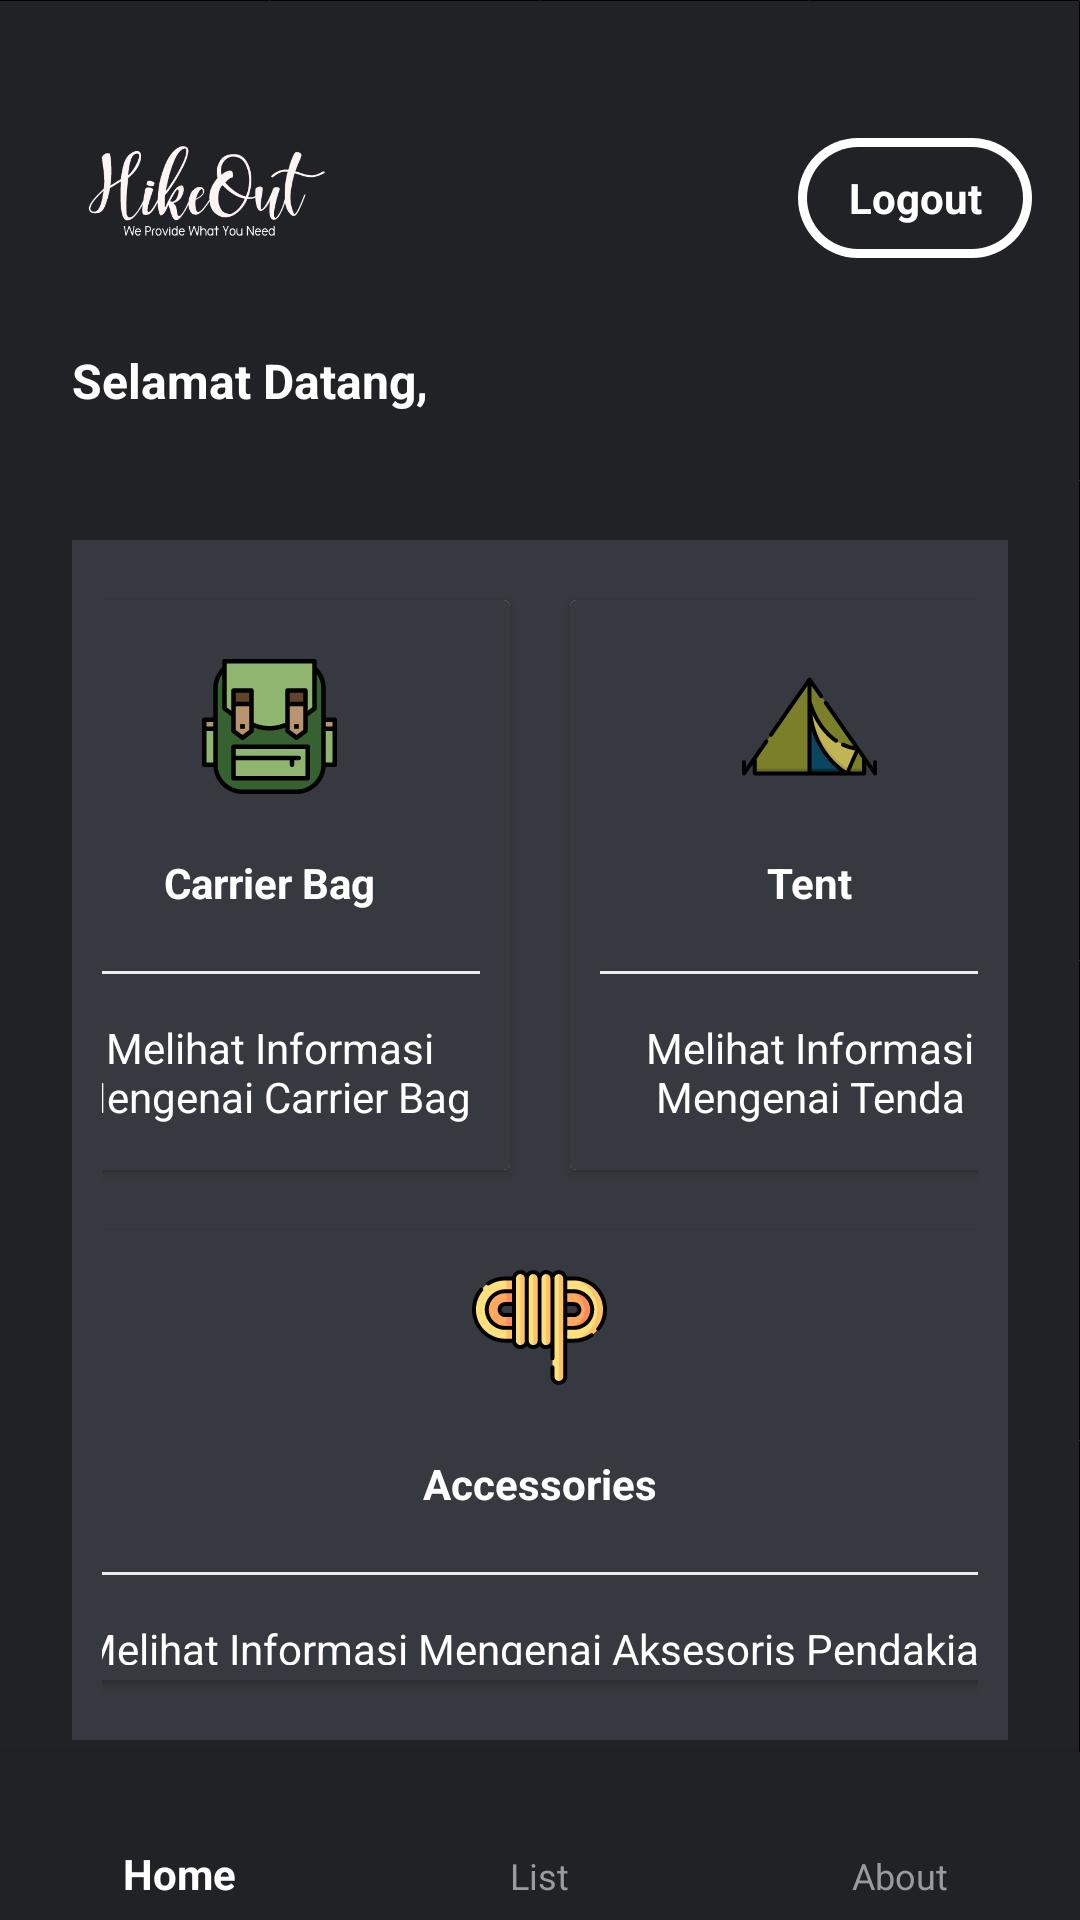

Where icons sit on this 1080 x 1920 app screen, as (x1, y1, x2, y2):
backpack: (202, 659, 337, 794)
barracks: (742, 677, 877, 776)
knot: (472, 1270, 607, 1385)
